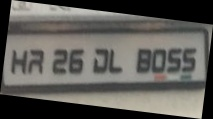character: (10, 48, 27, 74), (27, 48, 44, 74), (52, 47, 67, 74), (92, 47, 108, 72), (135, 47, 151, 72), (181, 46, 196, 72), (68, 48, 84, 72), (151, 47, 166, 72), (108, 48, 123, 72), (166, 47, 181, 71)
